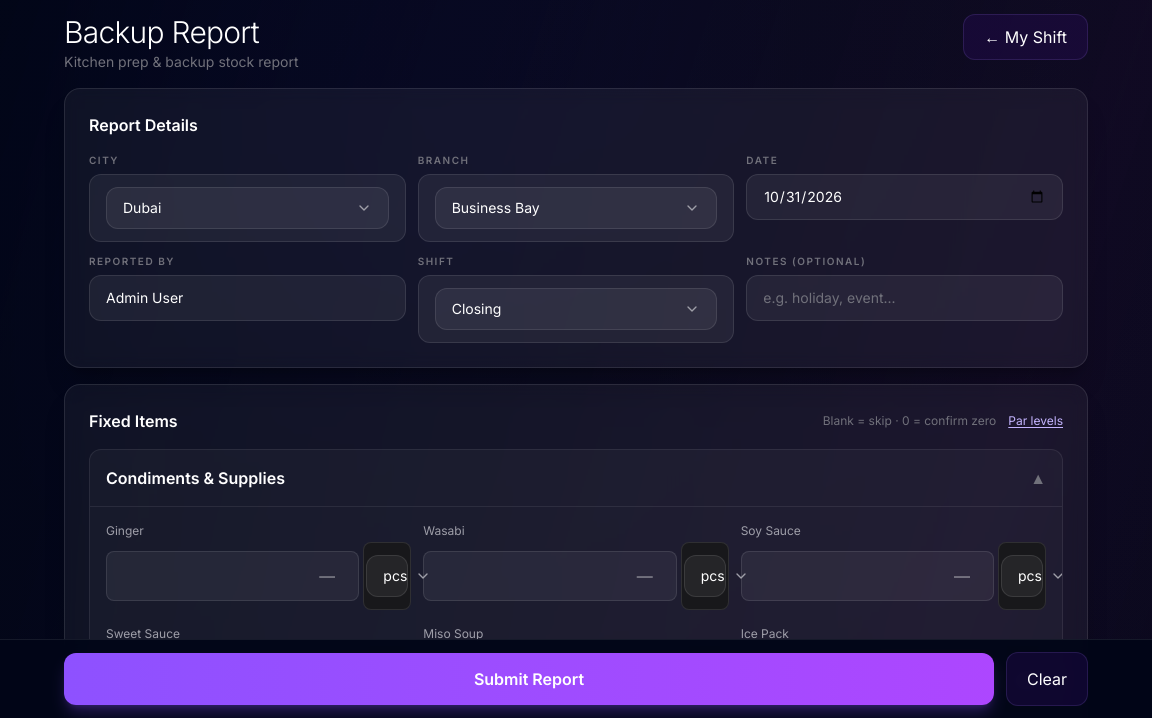
Test: /admin/backup — city switching › switching to Manila shows 'Base Roll' section
Check: the heading "Backup Report" is shown, box [64,14,259,50]
Click the dropdown labelled "Dubai" at (142, 208), box [106,187,389,229]
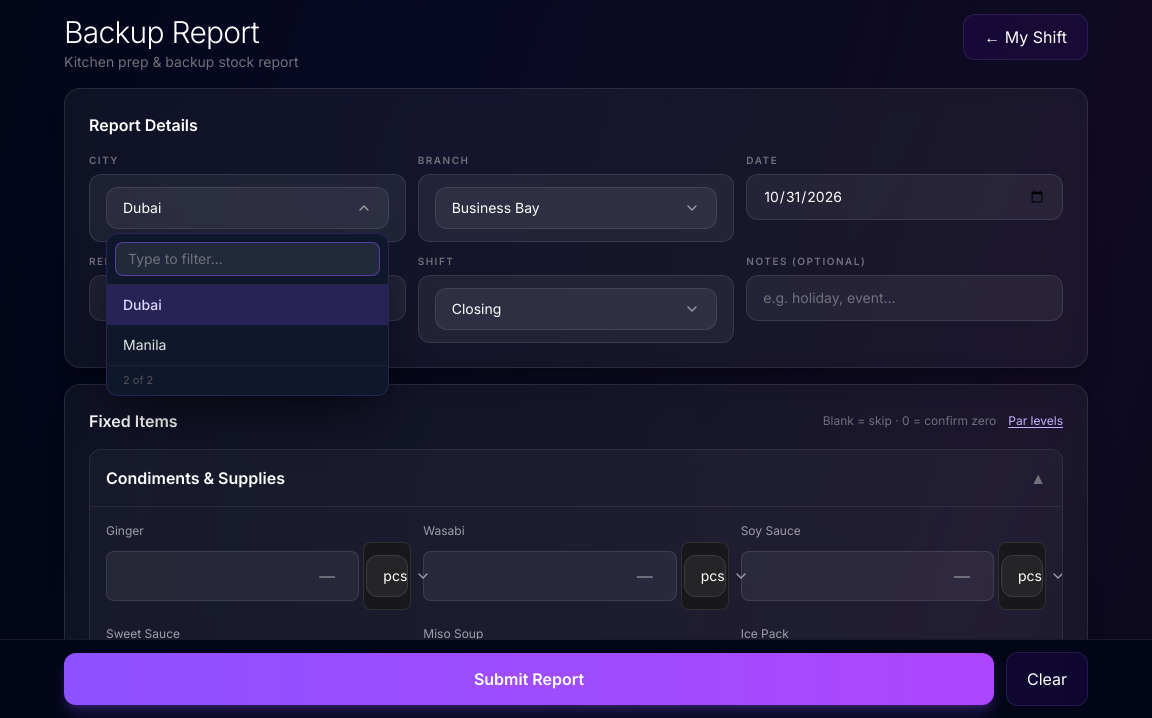
Click the option "Manila" at (145, 344), box [107,325,388,365]
(page scrolled)
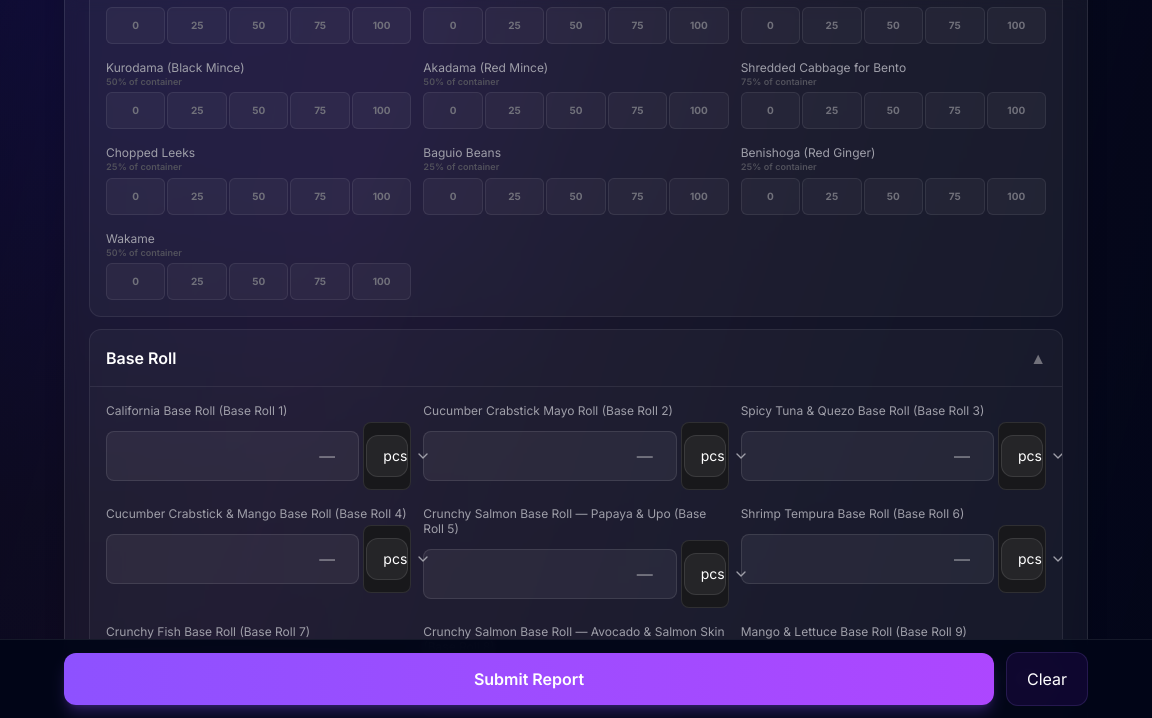
Check: the text "Base Roll" is shown, box [106,346,176,370]
